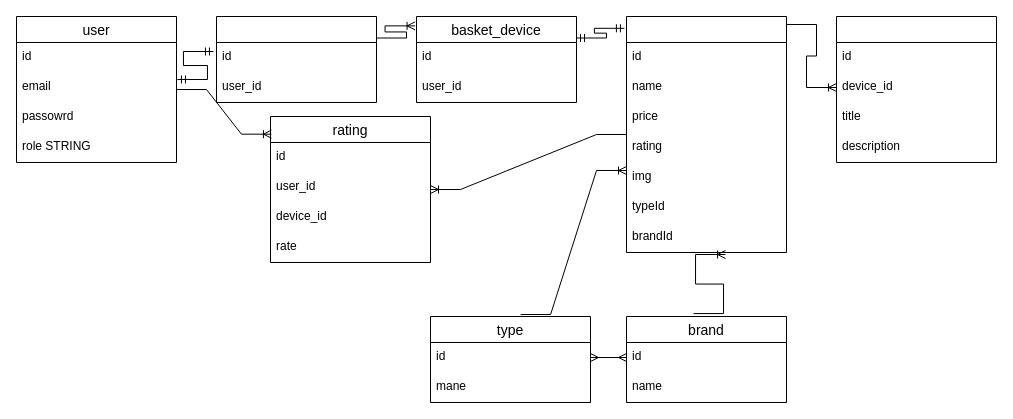
This 1013x419 diagram has some shape labels left out. Here are the shapes that lost their labels. From the top down, the box of each, then its label:
(216, 16, 376, 102): basket
(836, 16, 996, 162): device_info
(626, 16, 786, 252): device
